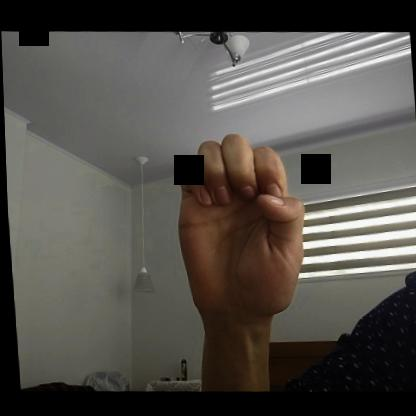E: (169, 128, 312, 330)
